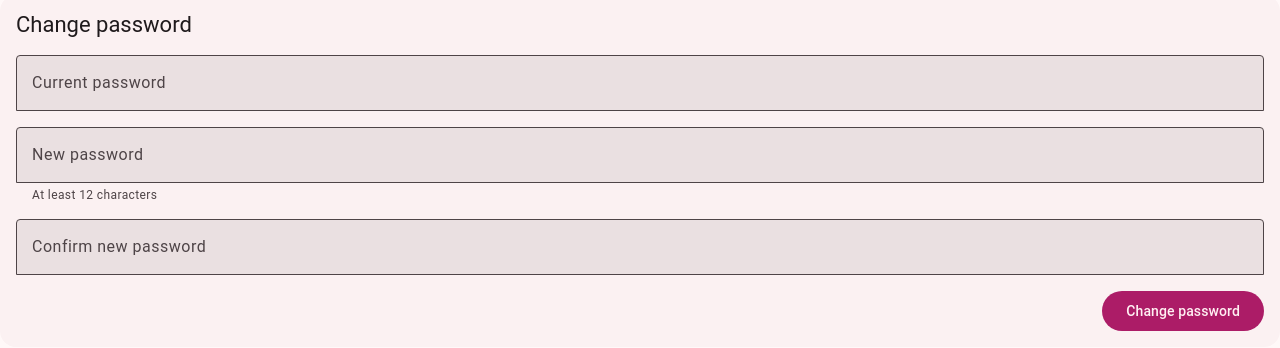
PasswordCard › sends nothing for a new password under 12 characters
In the password field with id "account-current-password": x=640, y=83 [16,55,1264,111], type "old-password-12"
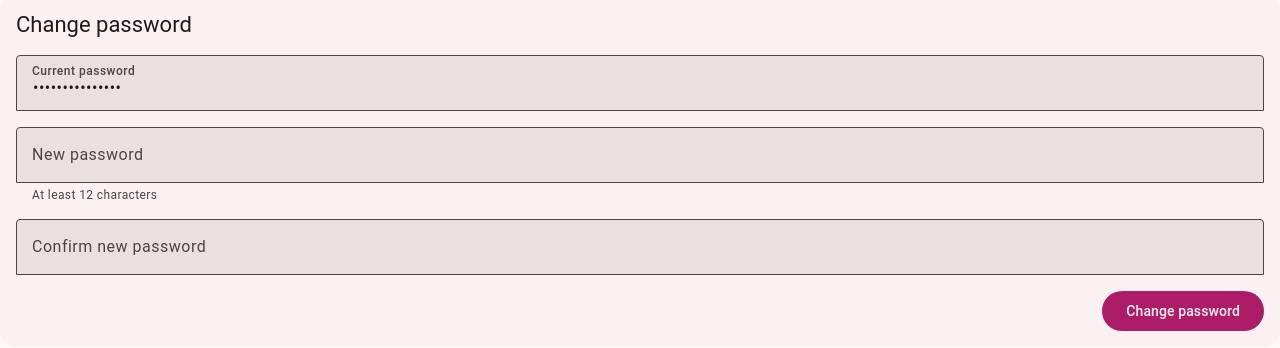
In the password field with id "account-new-password": x=640, y=155 [16,127,1264,183], type "short"
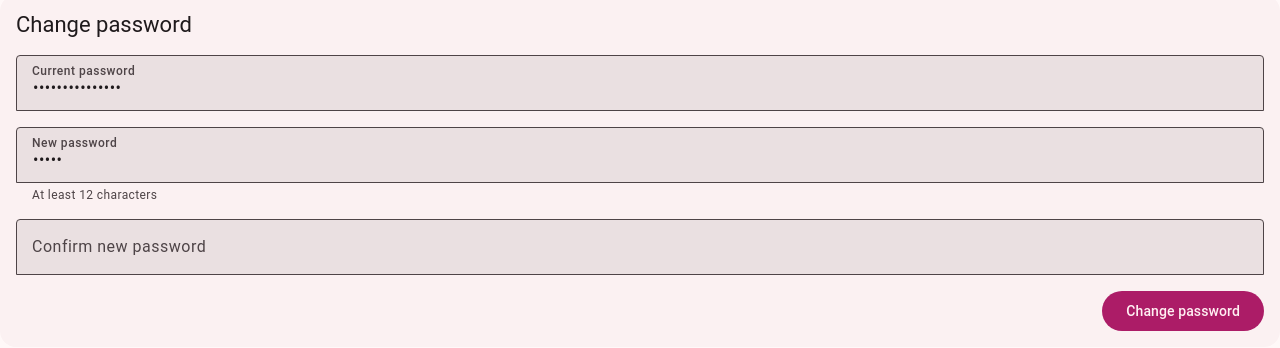
In the password field with id "account-confirm-password": x=640, y=247 [16,219,1264,275], type "short"
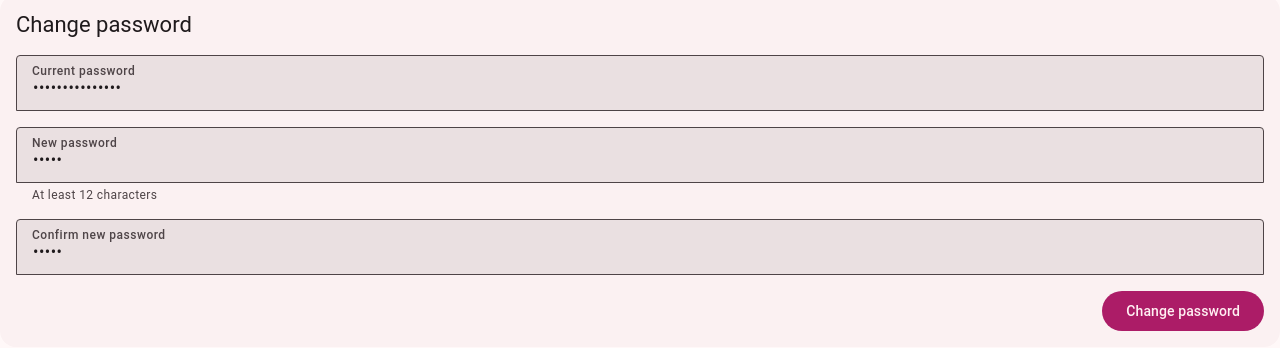
Submit the form
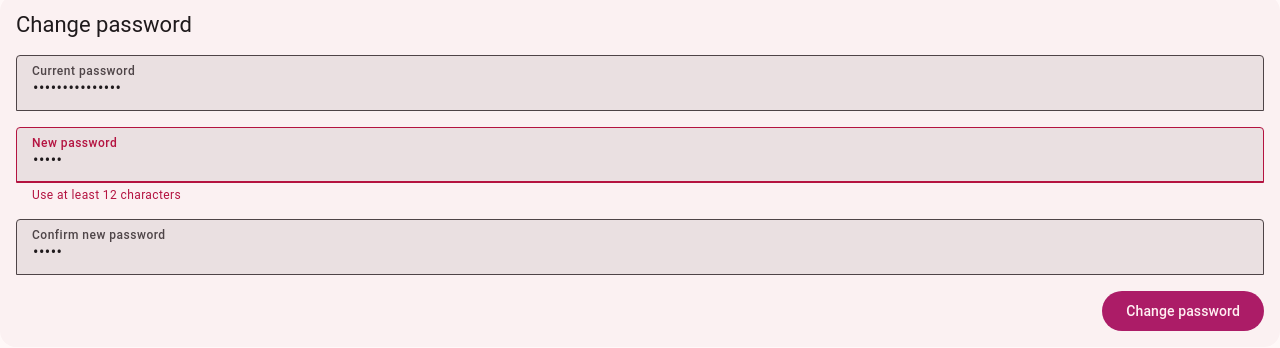
Now the text "Use at least 12 characters" is shown, box [32,188,181,202]
